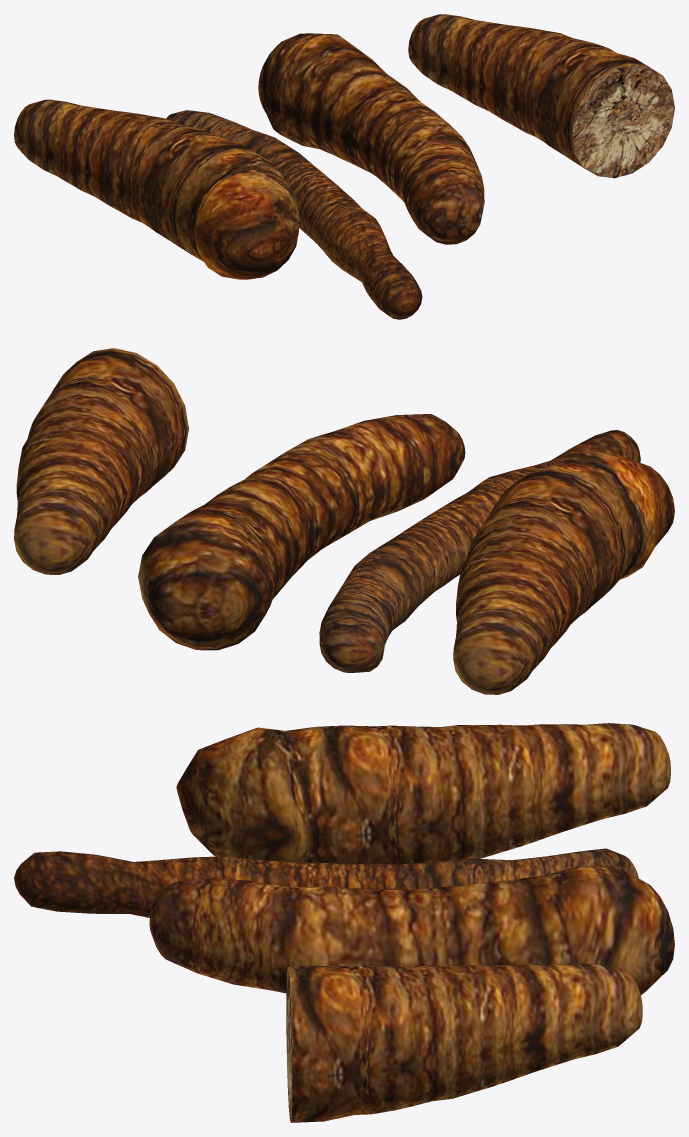
File: qianghuo.FBX
The picture shows the model from 3 angles, top to bottom: view 1: azimuth 30°, elevation 25°; view 2: azimuth 150°, elevation 25°; view 3: azimuth 270°, elevation 25°; orthographic projection. The views are drawn at different scales.
Parts seen in each view (by area): view 1: Cylinder003, Cylinder004, Cylinder002, Cylinder001; view 2: Cylinder002, Cylinder003, Cylinder004, Cylinder001; view 3: Cylinder003, Cylinder002, Cylinder004, Cylinder001.
Part boxes in pixels (left/top/right/bottom): Cylinder003: left=14, top=99, right=300, bottom=279; Cylinder004: left=408, top=14, right=674, bottom=178; Cylinder002: left=258, top=33, right=484, bottom=244; Cylinder001: left=166, top=110, right=422, bottom=319; Cylinder002: left=138, top=414, right=465, bottom=650; Cylinder003: left=453, top=451, right=674, bottom=694; Cylinder004: left=14, top=348, right=188, bottom=574; Cylinder001: left=319, top=430, right=640, bottom=672; Cylinder003: left=176, top=723, right=670, bottom=864; Cylinder002: left=149, top=866, right=674, bottom=994; Cylinder004: left=286, top=963, right=642, bottom=1122; Cylinder001: left=14, top=848, right=638, bottom=917.
Size of the model in its own units: 617 by 130 by 524.
